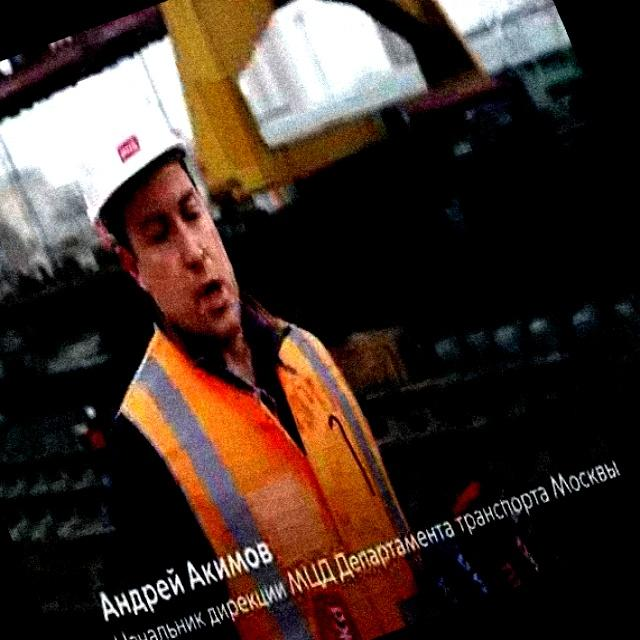helmet: (84, 106, 202, 232)
safety_vest: (114, 317, 434, 640)
